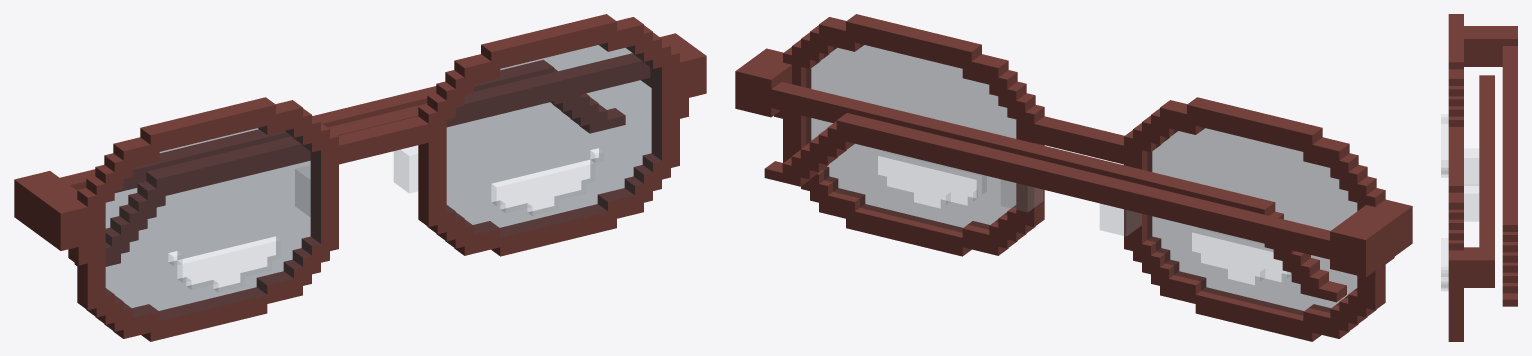
File: sunglasses_bifocal.glb
The picture shows the model from 3 angles, left to right: view 1: azimuth 30°, elevation 25°; view 2: azimuth 150°, elevation 25°; view 3: azimuth 270°, elevation 25°; orthographic projection. The views are drawn at different scales.
Parts seen in each view (by area): view 1: sunglasses_bifocal:compound; view 2: sunglasses_bifocal:compound; view 3: sunglasses_bifocal:compound.
Boxes of the visible parts, x1,y1,x2,y2 form: sunglasses_bifocal:compound: (14,14,706,341); sunglasses_bifocal:compound: (735,14,1412,341); sunglasses_bifocal:compound: (1441,14,1517,341).
Size of the model in its own units: 0.144 by 0.044 by 0.02.
